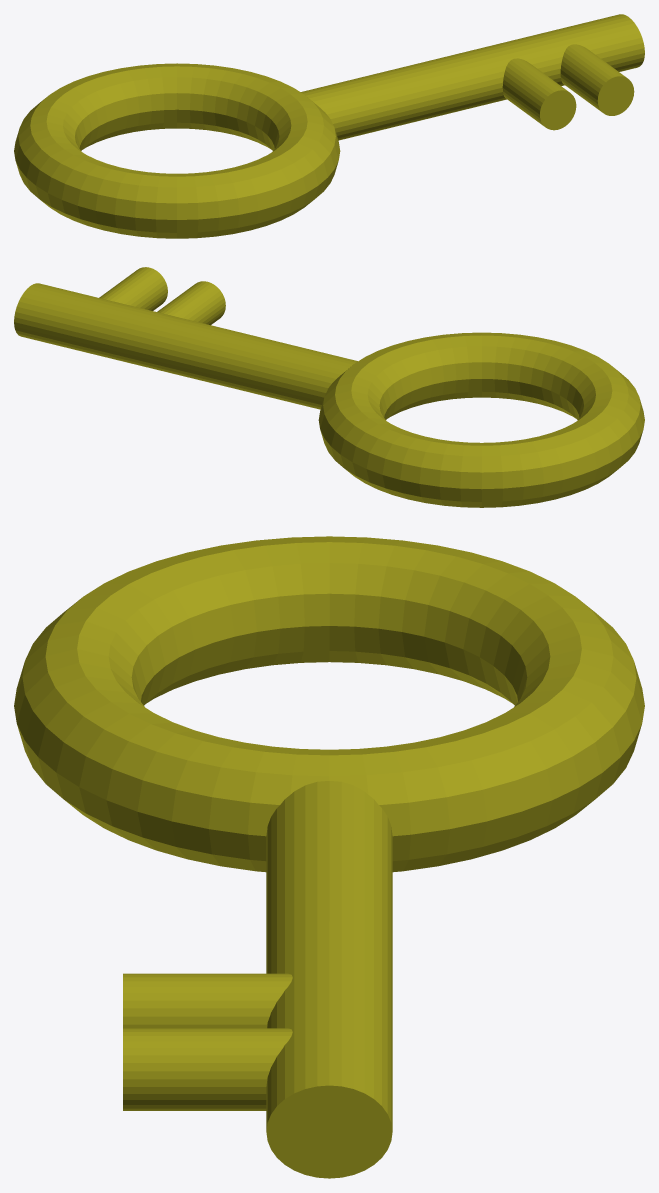
Rendered from key3D(gold).fbx.
3 renders of one model, top to bottom at view 1: azimuth 30°, elevation 25°; view 2: azimuth 150°, elevation 25°; view 3: azimuth 270°, elevation 25°, orthographic. The views are drawn at different scales.
Parts seen in each view (by area): view 1: Torus, Cylinder, Cylinder.002, Cylinder.001; view 2: Torus, Cylinder, Cylinder.001, Cylinder.002; view 3: Torus, Cylinder, Cylinder.002, Cylinder.001.
Boxes of the visible parts, box(x1,y1,x2,y2) form: Torus: box(14, 63, 340, 238); Cylinder: box(301, 14, 644, 140); Cylinder.002: box(560, 44, 634, 115); Cylinder.001: box(502, 58, 576, 130); Torus: box(318, 332, 644, 507); Cylinder: box(14, 283, 357, 409); Cylinder.001: box(157, 281, 225, 325); Cylinder.002: box(99, 267, 167, 310); Torus: box(14, 536, 644, 872); Cylinder: box(266, 781, 392, 1178); Cylinder.002: box(123, 1028, 292, 1110); Cylinder.001: box(123, 973, 292, 1028).
Bounding box in the file's own units: 524 × 50 × 250.
